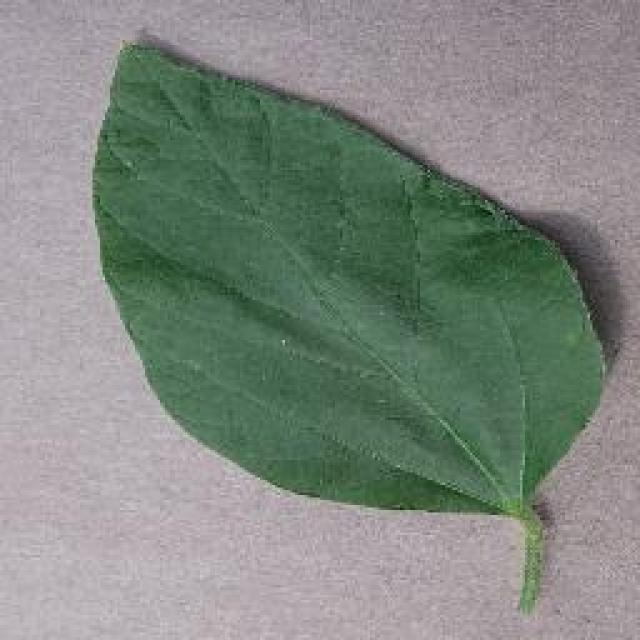Soy_healthy: (100, 72, 574, 487)
